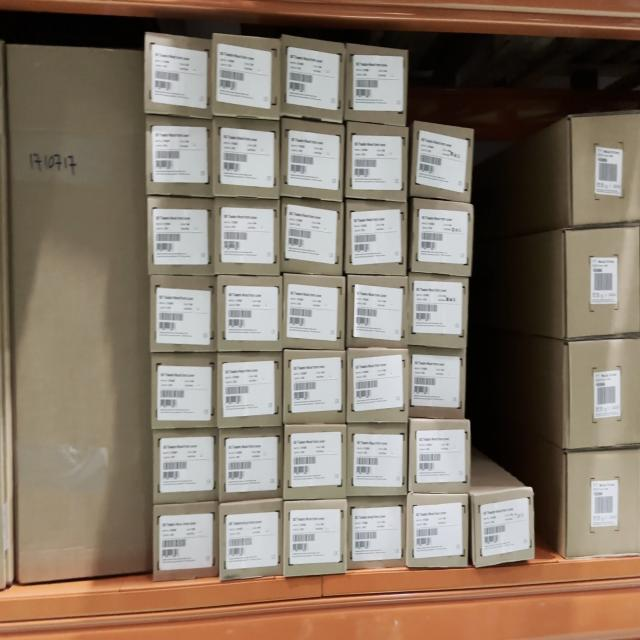box: (16, 46, 144, 574), (565, 227, 640, 336), (566, 452, 640, 558), (568, 344, 640, 446), (570, 117, 640, 220), (212, 121, 280, 197), (148, 199, 215, 276), (145, 39, 213, 112), (215, 39, 281, 112), (151, 354, 217, 426), (151, 277, 217, 349), (146, 121, 212, 193), (219, 353, 283, 427), (218, 276, 282, 349), (222, 501, 283, 575), (216, 201, 281, 270), (284, 425, 346, 496), (347, 424, 407, 497), (155, 504, 219, 572), (283, 276, 346, 345), (280, 126, 345, 192), (285, 351, 346, 421), (155, 432, 218, 499), (283, 46, 345, 114), (282, 202, 343, 271), (347, 127, 407, 197), (348, 204, 408, 274), (347, 52, 408, 120), (347, 277, 408, 345), (347, 354, 408, 422), (221, 430, 283, 496), (285, 503, 345, 571), (474, 491, 531, 562), (410, 422, 470, 489), (412, 128, 472, 194), (409, 495, 467, 563), (414, 205, 472, 273), (349, 500, 407, 567), (410, 349, 465, 418), (410, 278, 468, 341)
